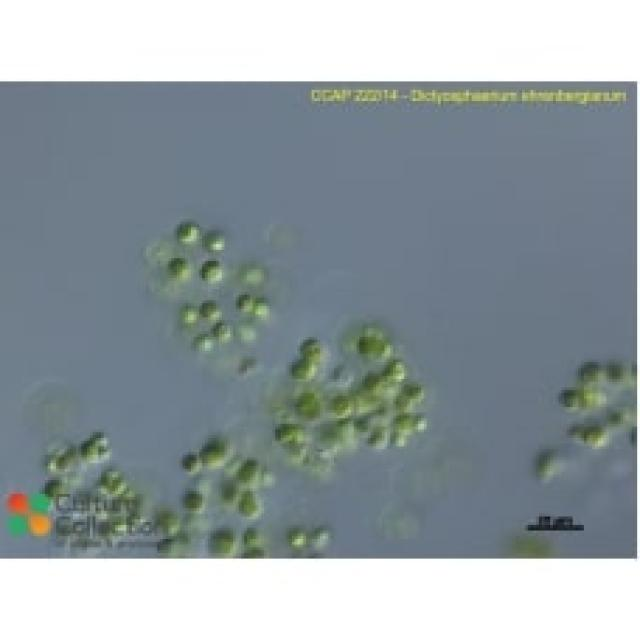Green Algae: (278, 354, 317, 387), (292, 334, 331, 362), (230, 454, 264, 486), (199, 258, 230, 286), (177, 446, 202, 480), (236, 486, 258, 522), (177, 486, 205, 514), (199, 298, 225, 326), (556, 387, 584, 413), (202, 230, 233, 253), (326, 393, 348, 418), (174, 216, 194, 242)
